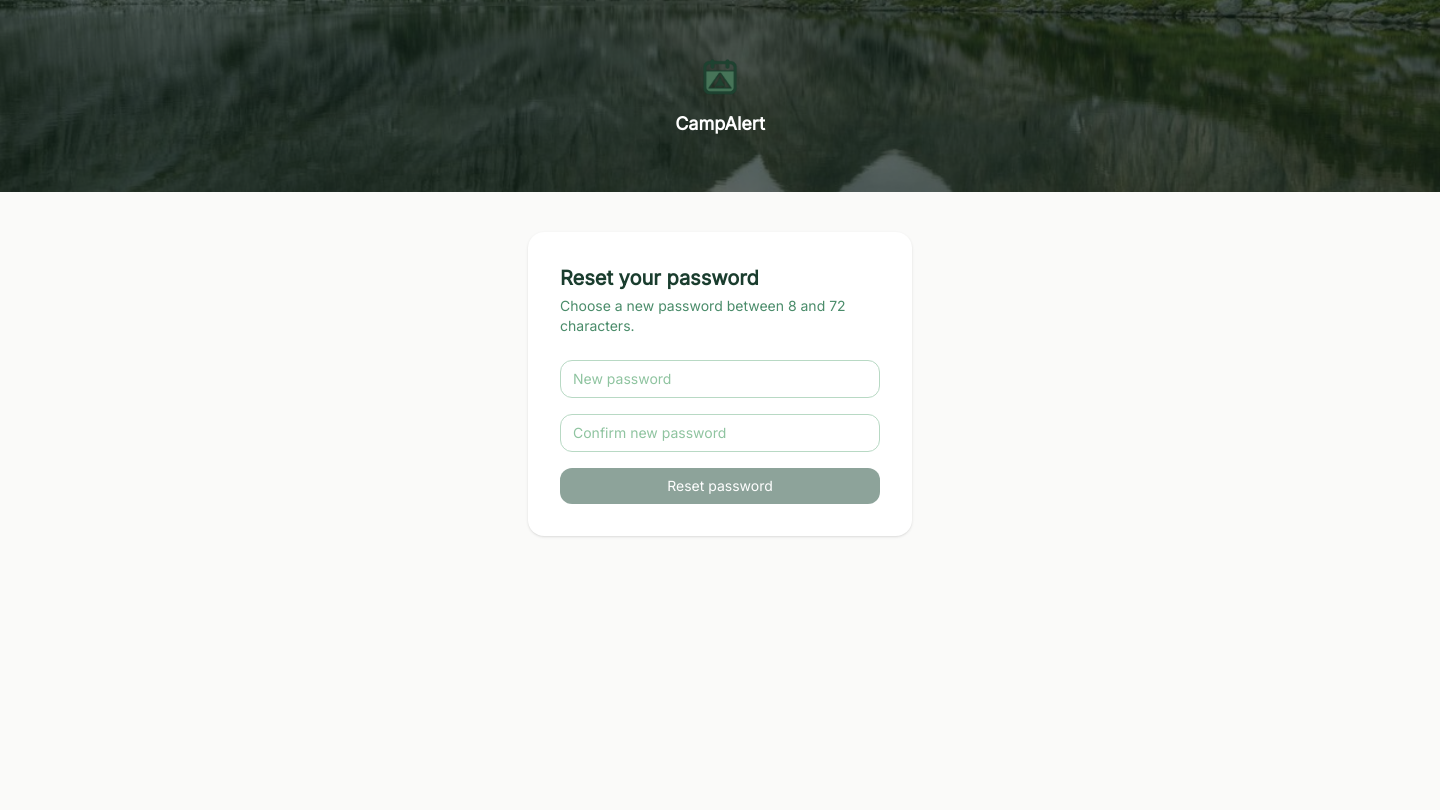
ResetPasswordPage › validates that passwords match
Type "newPassword1!" into the password field labelled "New password" at (720, 379), box [560,360,880,398]
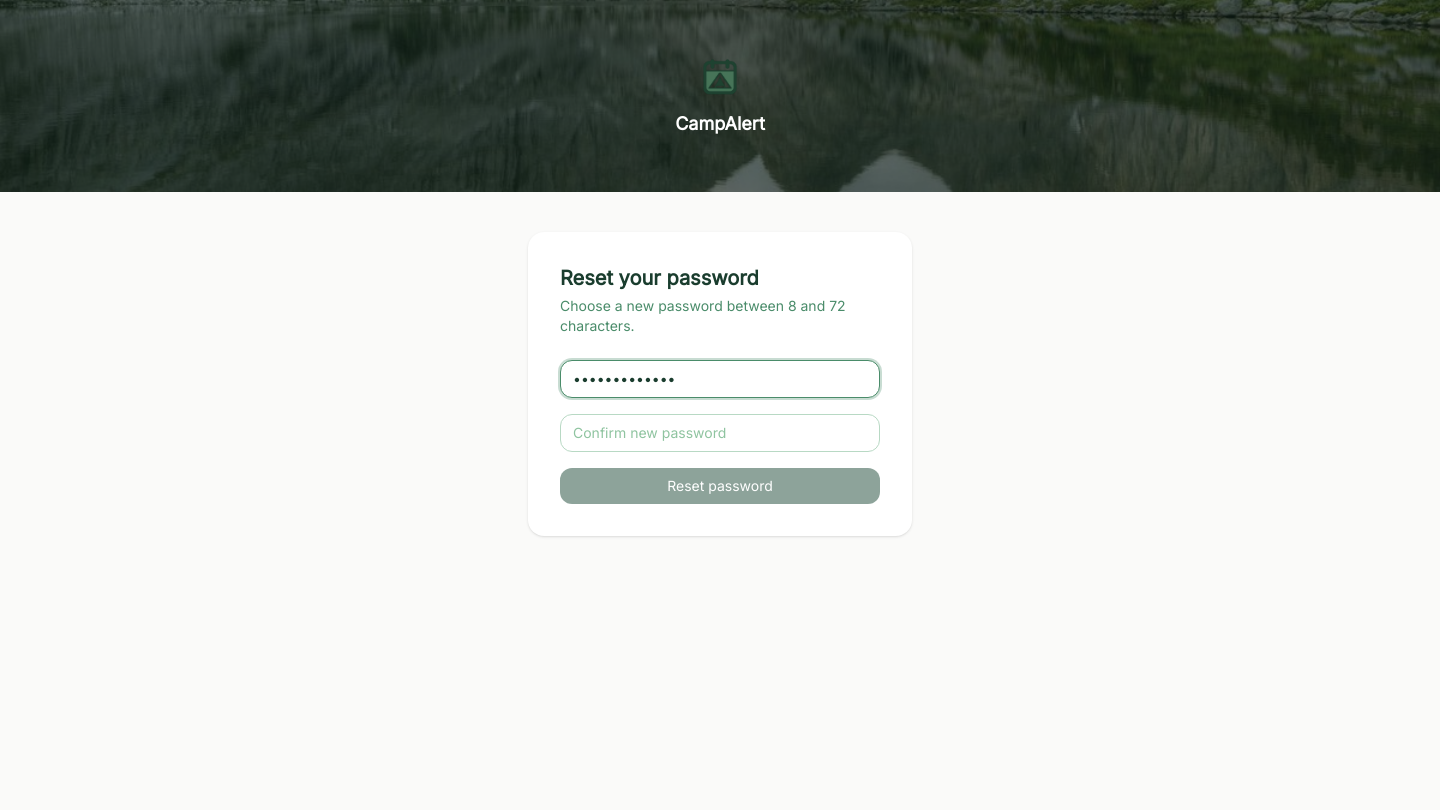
Type "differentPassword1!" into the password field labelled "Confirm new password" at (720, 433), box [560,414,880,452]
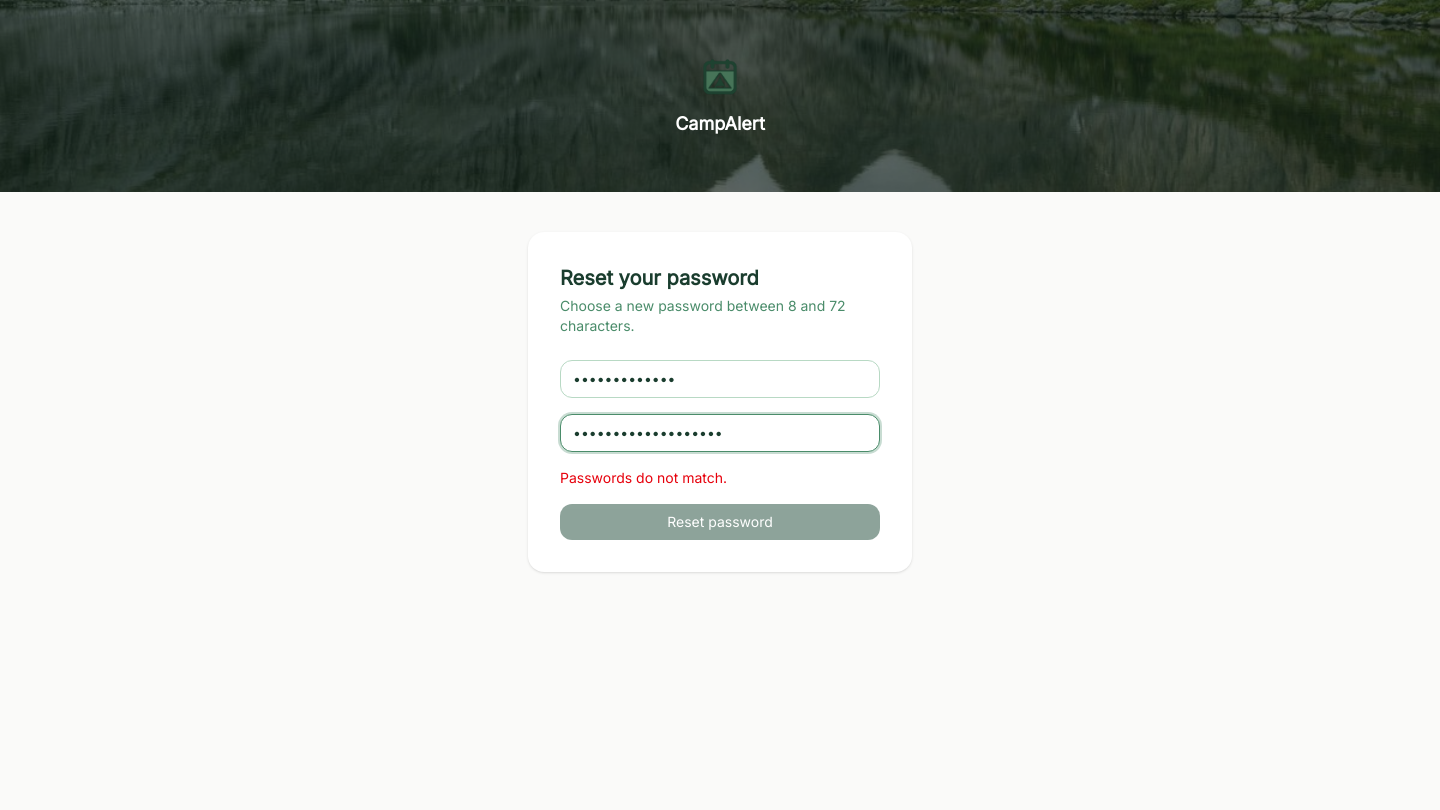
expect the button "Reset password" is disabled: met, box [560,504,880,540]
expect the text "Passwords do not match." is shown: met, box [560,469,727,486]
